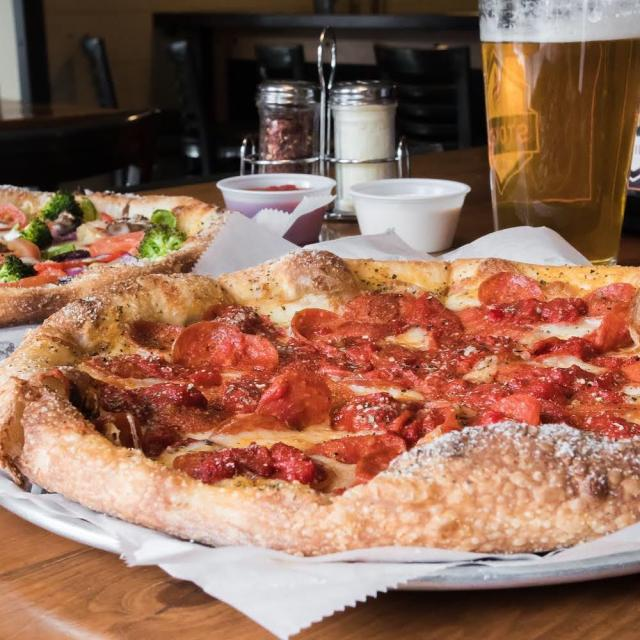pepperoni: (260, 369, 332, 426), (174, 322, 242, 367), (480, 272, 543, 308), (290, 307, 346, 343), (128, 317, 184, 351), (577, 283, 637, 314), (346, 294, 398, 325), (242, 336, 276, 376)
pizza: (0, 250, 640, 560), (0, 188, 230, 326)
tomatoes: (90, 232, 146, 255), (12, 238, 40, 261), (0, 207, 25, 225)
